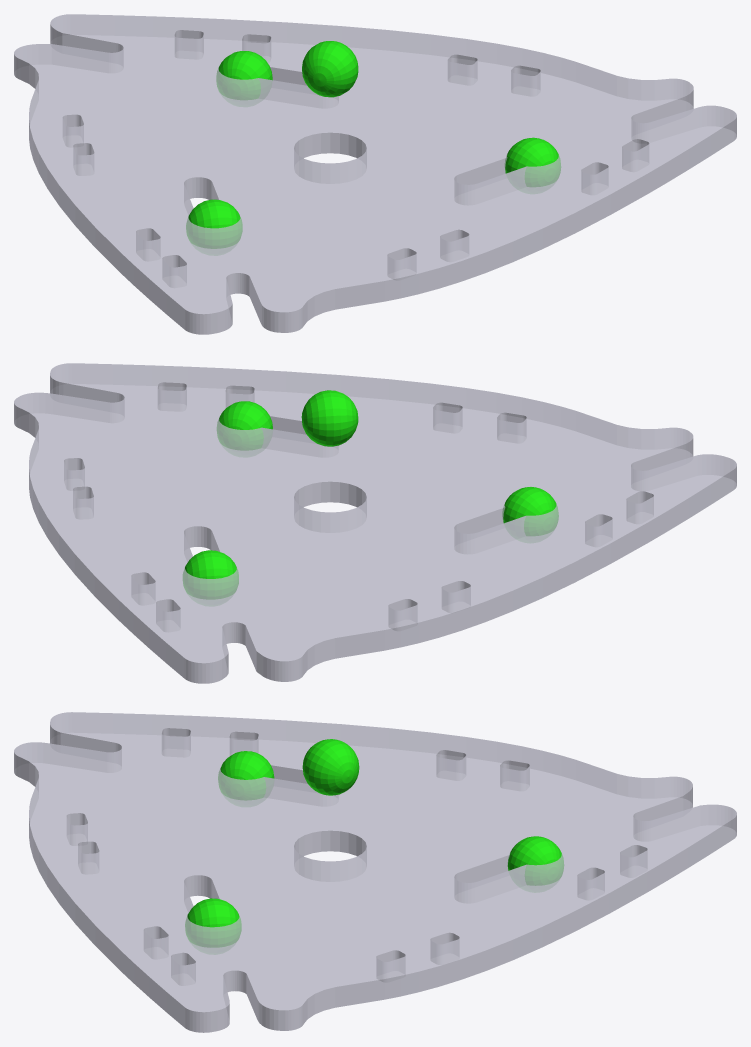
The model's file is Amaria_b2.fbx.
The picture shows the model from 3 angles, top to bottom: view 1: azimuth 30°, elevation 25°; view 2: azimuth 150°, elevation 25°; view 3: azimuth 270°, elevation 25°; orthographic projection.
Visible parts, largest first — view 1: Amaria_b2, c_3, c_2, c, c_1; view 2: Amaria_b2, c_3, c, c_1, c_2; view 3: Amaria_b2, c_3, c_1, c_2, c.
Boxes of the visible parts, x1,y1,x2,y2 form: Amaria_b2: [14, 14, 736, 334]; c_3: [302, 41, 358, 97]; c_2: [186, 199, 242, 248]; c: [216, 51, 272, 100]; c_1: [505, 137, 560, 187]; Amaria_b2: [14, 363, 736, 683]; c_3: [301, 390, 358, 446]; c: [183, 550, 238, 599]; c_1: [217, 401, 272, 450]; c_2: [502, 487, 558, 536]; Amaria_b2: [14, 712, 736, 1032]; c_3: [302, 739, 359, 795]; c_1: [185, 898, 241, 947]; c_2: [218, 751, 274, 800]; c: [507, 836, 563, 885].
Bounding box in the file's own units: 62.39 × 13.63 × 63.52.
